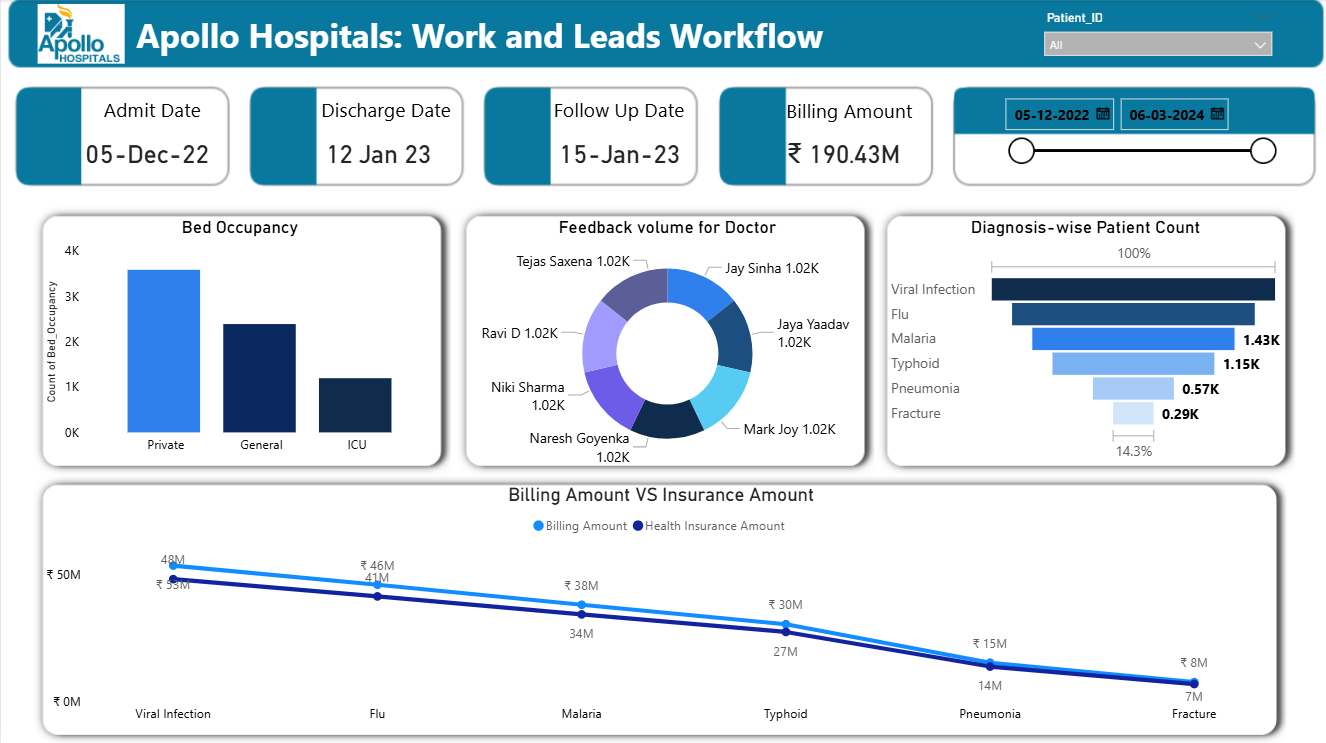

The dashboard page shown, as its layout file describes it:
{"tool":"powerbi","page":{"name":"Page 1","canvas":[1280,720],"ordinal":0},"visuals":[{"type":"card","fields":{"Values":["Sheet1.Admit_Date"]},"box":[64,132,154.7,34.7],"z":0},{"type":"textbox","box":[94.7,89.3,137.3,42.7],"z":1000},{"type":"textbox","box":[304,89.3,137.3,42.7],"z":2000},{"type":"textbox","box":[528,89.3,137.3,42.7],"z":3000},{"type":"textbox","box":[752.9,90,137.1,41.4],"z":4000},{"type":"card","fields":{"Values":["Sheet1.Discharge_Date"]},"box":[286.7,132,154.7,34.7],"z":5000},{"type":"card","fields":{"Values":["Sheet1.Followup Date"]},"box":[520,132,154.7,34.7],"z":6000},{"type":"card","fields":{"Values":["Sheet1.Billing Amount"]},"box":[736,132,154.7,34.7],"z":7000},{"type":"slicer","fields":{"Values":["Sheet1.Admit_Date"]},"box":[957.1,85.7,282.9,92.9],"z":8000},{"type":"image","box":[29.1,0,96.4,67.3],"z":9000},{"type":"textbox","box":[126,8,710,52],"z":10000},{"type":"slicer","fields":{"Values":["Sheet1.Patient_ID"]},"box":[996,6,240,60],"z":11000},{"type":"funnel","title":"Diagnosis-wise Patient Count","fields":{"Category":["Sheet1.Diagnosis"],"Y":["Sheet1.Diagnosis"]},"box":[854.3,210,385.7,241.4],"z":12000},{"type":"lineChart","title":"Billing Amount VS Insurance Amount","fields":{"Y":["Sheet1.Billing Amount","Sheet1.Health Insurance Amount"],"Category":["Sheet1.Diagnosis"]},"box":[38.6,468.6,1197.1,240],"z":13000},{"type":"donutChart","title":"Feedback volume for Doctor","fields":{"Category":["Sheet1.Doctor"],"Y":["Sheet1.Doctor"]},"box":[451.4,210,384.3,245.7],"z":14000},{"type":"columnChart","title":"Bed Occupancy","fields":{"Category":["Sheet1.Bed_Occupancy"],"Y":["Sheet1.Bed_Occupancy"]},"box":[38.6,210,384.3,238.6],"z":15000}]}

Visuals, with their boxes in screenshot pixels (x1, y1, x2, y2), scaled from the page's 1280x720 canvas onto the 1326x743 screenshot:
card - Sheet1.Admit_Date: [66,136,227,172]
textbox: [98,92,240,136]
textbox: [315,92,457,136]
textbox: [547,92,689,136]
textbox: [780,93,922,136]
card - Sheet1.Discharge_Date: [297,136,457,172]
card - Sheet1.Followup Date: [539,136,699,172]
card - Sheet1.Billing Amount: [762,136,923,172]
slicer - Sheet1.Admit_Date: [991,88,1285,184]
image: [30,0,130,69]
textbox: [131,8,866,62]
slicer - Sheet1.Patient_ID: [1032,6,1280,68]
"Diagnosis-wise Patient Count" funnel: [885,217,1285,466]
"Billing Amount VS Insurance Amount" lineChart: [40,484,1280,731]
"Feedback volume for Doctor" donutChart: [468,217,866,470]
"Bed Occupancy" columnChart: [40,217,438,463]
